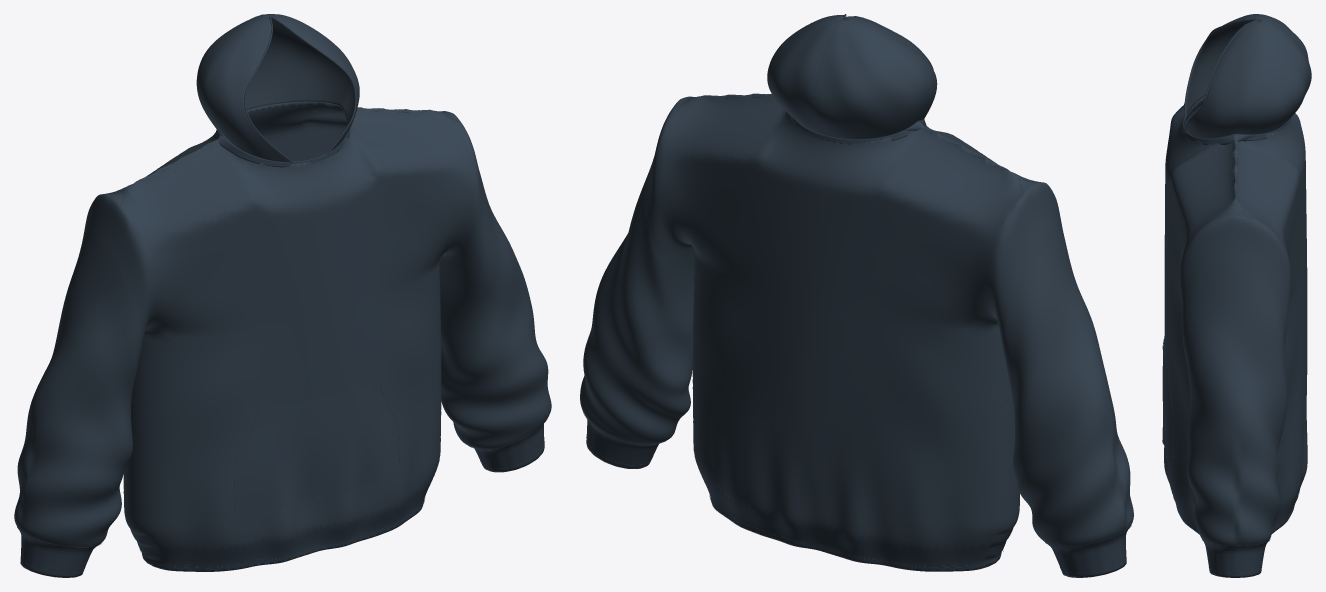
The model's file is hoodie-boxy.glb.
3 views of the same model, side by side, from view 1: azimuth 30°, elevation 25°; view 2: azimuth 150°, elevation 25°; view 3: azimuth 270°, elevation 25° (orthographic). The views are drawn at different scales.
Parts seen in each view (by area): view 1: hoodie-boxy, Pocket, Hood, Collar; view 2: hoodie-boxy, Hood; view 3: hoodie-boxy, Hood, Pocket, Collar, Hood binding, Hood binding.001.
Part boxes in pixels (x1,y1,x2,y2): hoodie-boxy: (14, 102, 551, 577); Pocket: (234, 382, 399, 513); Hood: (196, 14, 359, 162); Collar: (215, 101, 350, 167); hoodie-boxy: (580, 93, 1133, 577); Hood: (767, 15, 937, 139); hoodie-boxy: (1164, 96, 1307, 577); Hood: (1185, 14, 1311, 138); Pocket: (1162, 338, 1173, 464); Collar: (1182, 96, 1287, 144); Hood binding: (1184, 18, 1257, 115); Hood binding.001: (1184, 19, 1258, 132).
Size of the model in its own units: 1.82 by 1.68 by 0.4861.
